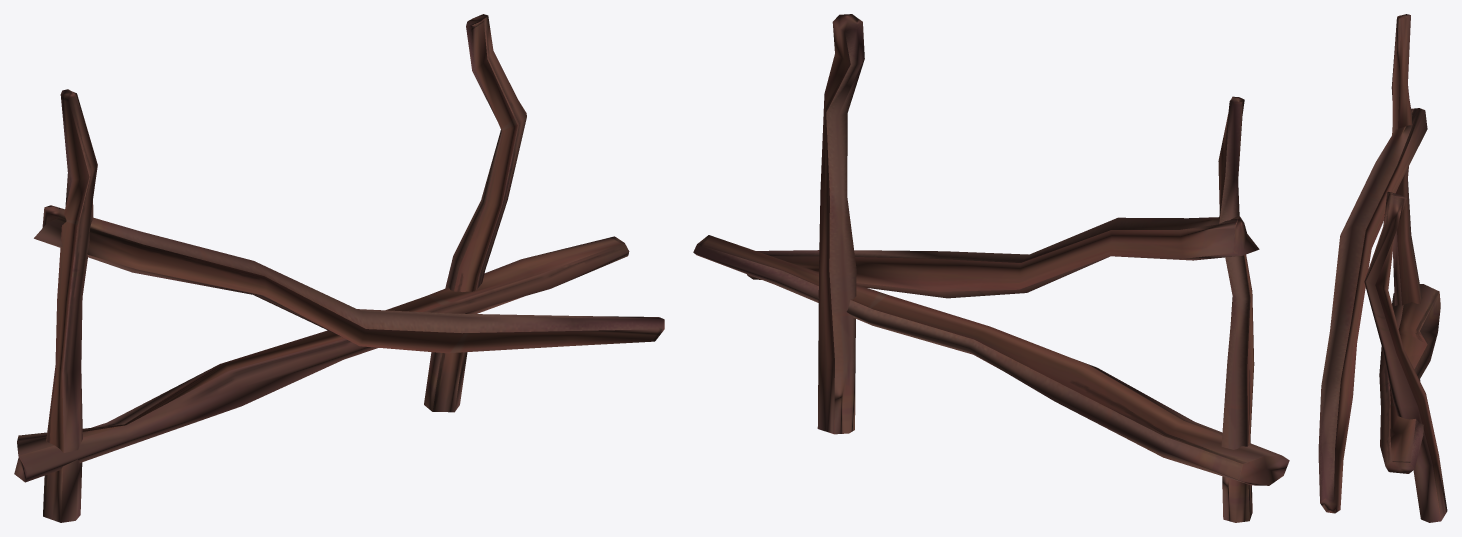
File: Broken_fence_02.fbx
3 views of the same model, side by side, from view 1: azimuth 30°, elevation 25°; view 2: azimuth 150°, elevation 25°; view 3: azimuth 270°, elevation 25° (orthographic). The views are drawn at different scales.
Parts seen in each view (by area): view 1: Fence.003; view 2: Fence.003; view 3: Fence.003.
Boxes of the visible parts, x1,y1,x2,y2 form: Fence.003: [14, 14, 664, 522]; Fence.003: [693, 14, 1289, 522]; Fence.003: [1318, 14, 1447, 522].
Bounding box in the file's own units: 138783 × 93861 × 31672.
